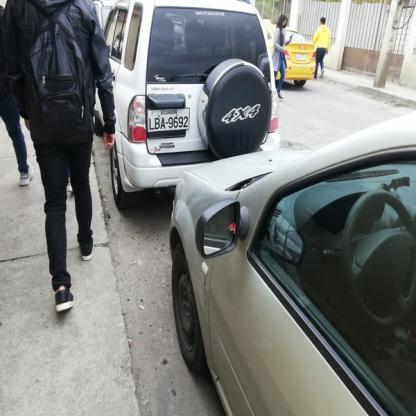Placa: (146, 109, 194, 134)
